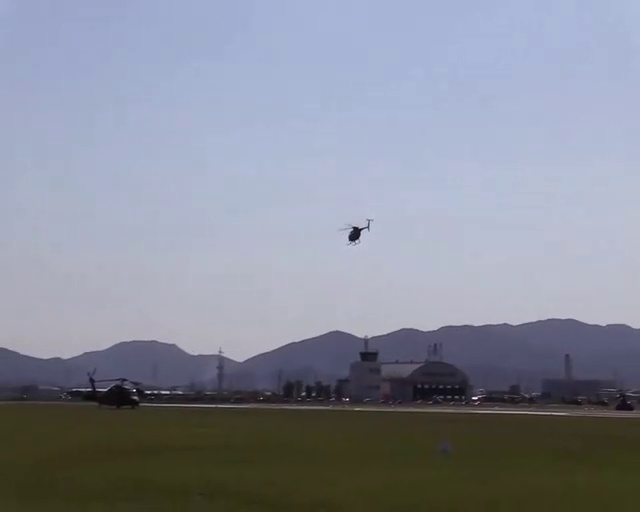HELICOPTER: (338, 217, 374, 246)
